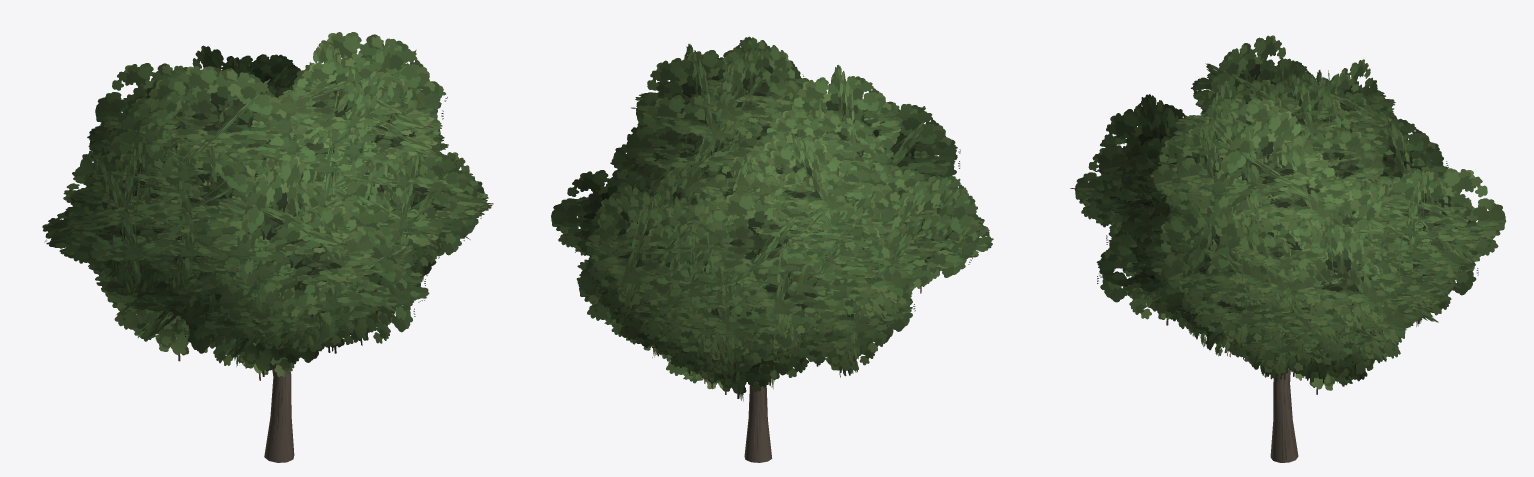
The model's file is tree_plane_0.glb.
3 views of the same model, side by side, from view 1: azimuth 30°, elevation 25°; view 2: azimuth 150°, elevation 25°; view 3: azimuth 270°, elevation 25° (orthographic). The views are drawn at different scales.
Parts seen in each view (by area): view 1: tree_plane_0_LOD0; view 2: tree_plane_0_LOD0; view 3: tree_plane_0_LOD0.
Boxes of the visible parts, <box> form: tree_plane_0_LOD0: <box>42,32,493,462</box>; tree_plane_0_LOD0: <box>551,36,993,462</box>; tree_plane_0_LOD0: <box>1070,35,1506,462</box>.
Size of what is drawn, in the model's own units: 14.71 by 13.12 by 14.04.
1 material, 1 textured.
